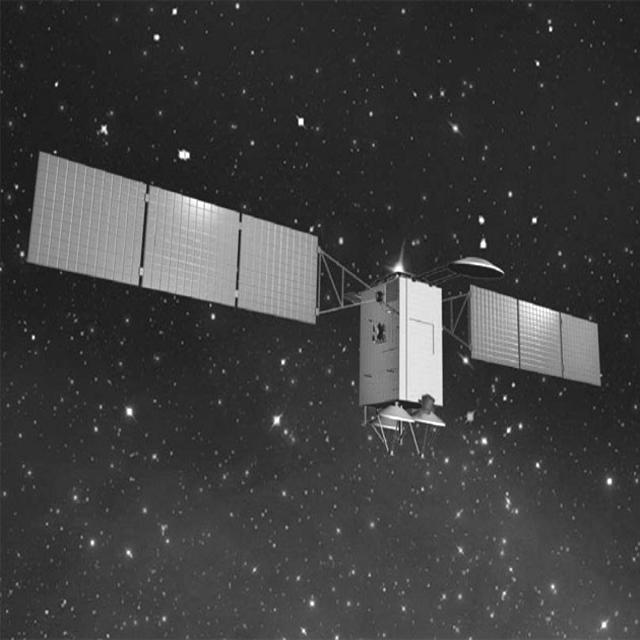medium_debris: (23, 135, 610, 478)
